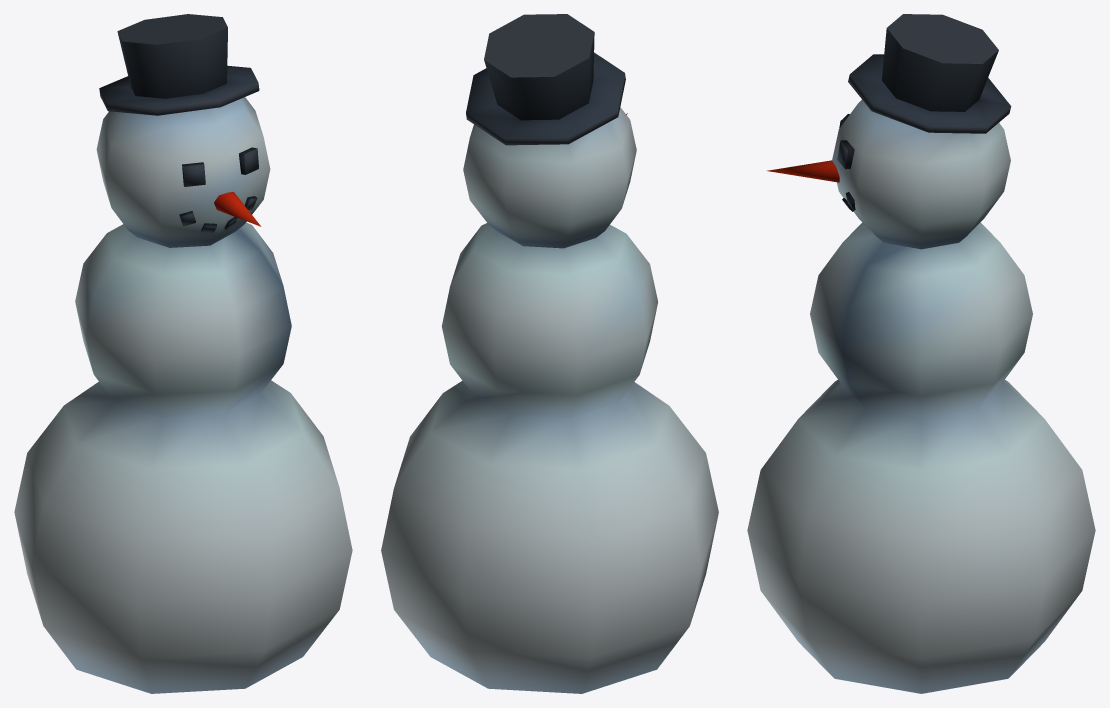
File: Snowman_Simple.fbx
3 renders of one model, left to right at view 1: azimuth 30°, elevation 25°; view 2: azimuth 150°, elevation 25°; view 3: azimuth 270°, elevation 25°, orthographic.
Parts seen in each view (by area): view 1: Snowman_Simple; view 2: Snowman_Simple; view 3: Snowman_Simple.
Boxes of the visible parts, bbox=[...] form: Snowman_Simple: bbox=[14, 14, 352, 693]; Snowman_Simple: bbox=[381, 14, 718, 693]; Snowman_Simple: bbox=[747, 14, 1095, 693].
Bounding box in the file's own units: 87.9 × 175 × 87.9.
